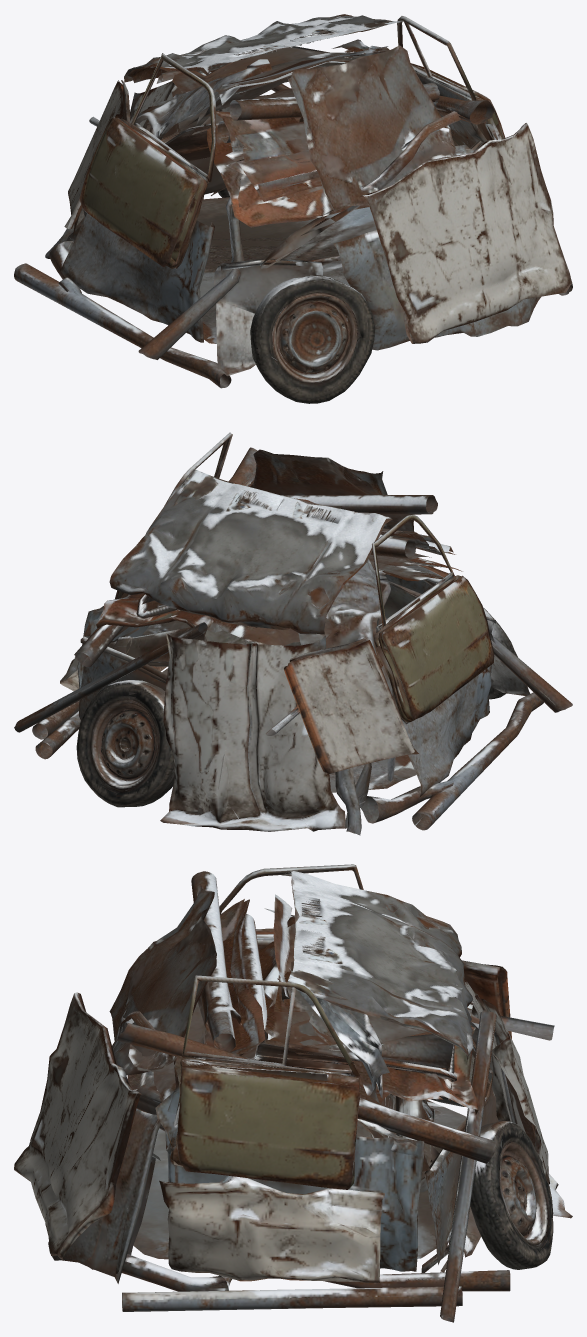
File: jt_scrap_pile.glb
3 renders of one model, top to bottom at view 1: azimuth 30°, elevation 25°; view 2: azimuth 150°, elevation 25°; view 3: azimuth 270°, elevation 25°, orthographic. The views are drawn at different scales.
Size of the model in its own units: 0.9507 by 0.5537 by 0.9111.
1 material, 1 textured.
